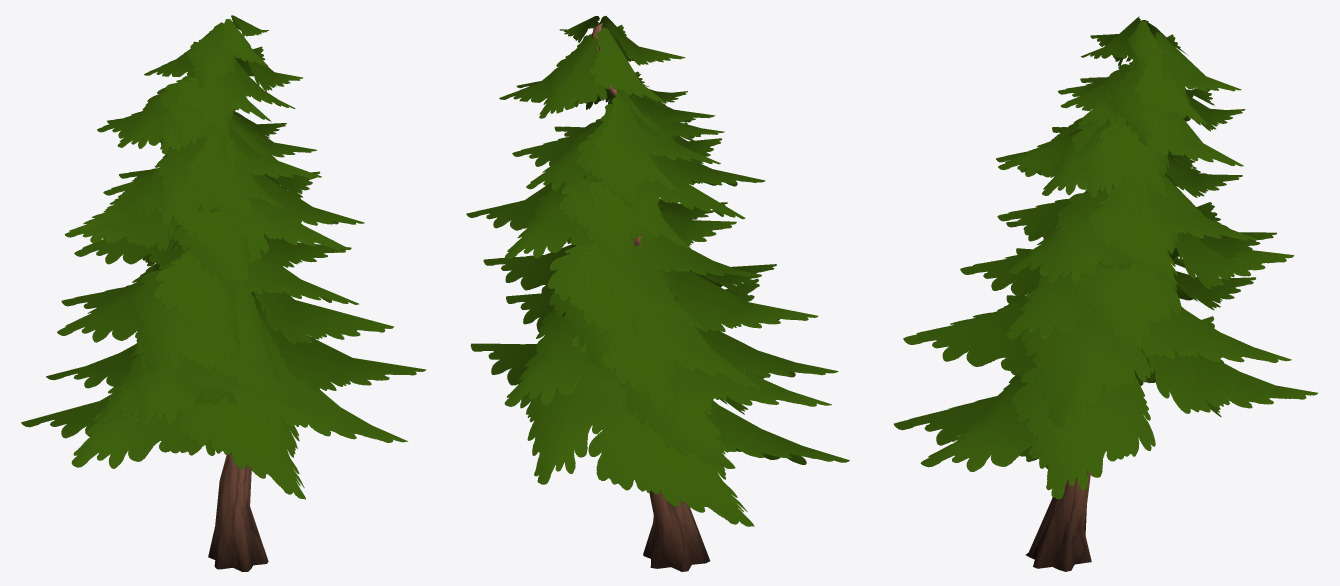
The model's file is pine_5_1.glb.
3 renders of one model, left to right at view 1: azimuth 30°, elevation 25°; view 2: azimuth 150°, elevation 25°; view 3: azimuth 270°, elevation 25°, orthographic. The views are drawn at different scales.
Parts seen in each view (by area): view 1: Pine_5; view 2: Pine_5; view 3: Pine_5.
Boxes of the visible parts, x1,y1,x2,y2 form: Pine_5: [21, 15, 426, 571]; Pine_5: [466, 16, 849, 571]; Pine_5: [894, 16, 1317, 571].
Size of the model in its own units: 6.42 by 8.72 by 6.22.
Materials: 2 (2 with a texture image).
